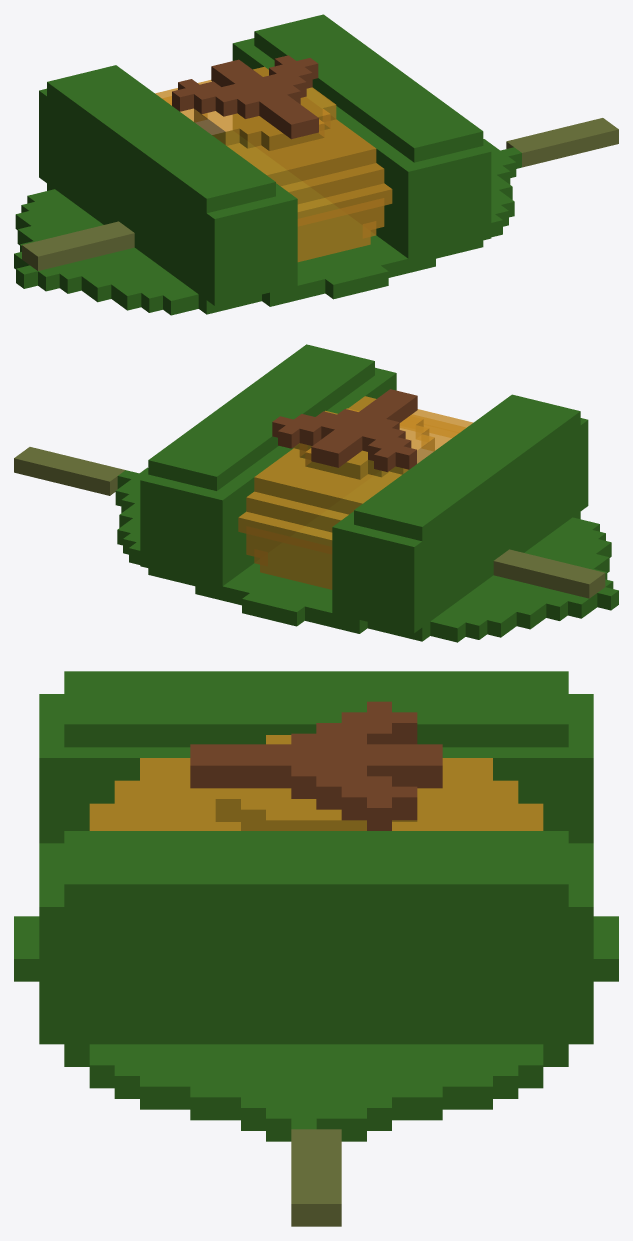
The model's file is leaf_wrapped_resin_rune.glb.
The picture shows the model from 3 angles, top to bottom: view 1: azimuth 30°, elevation 25°; view 2: azimuth 150°, elevation 25°; view 3: azimuth 270°, elevation 25°; orthographic projection. The views are drawn at different scales.
Parts seen in each view (by area): view 1: leaf_wrapped_resin_rune:compound; view 2: leaf_wrapped_resin_rune:compound; view 3: leaf_wrapped_resin_rune:compound.
Part boxes in pixels (x1=…): leaf_wrapped_resin_rune:compound: x1=14, y1=14, x2=618, y2=315; leaf_wrapped_resin_rune:compound: x1=14, y1=344, x2=618, y2=642; leaf_wrapped_resin_rune:compound: x1=14, y1=671, x2=618, y2=1226.
Size of the model in its own units: 0.086 by 0.018 by 0.048.
